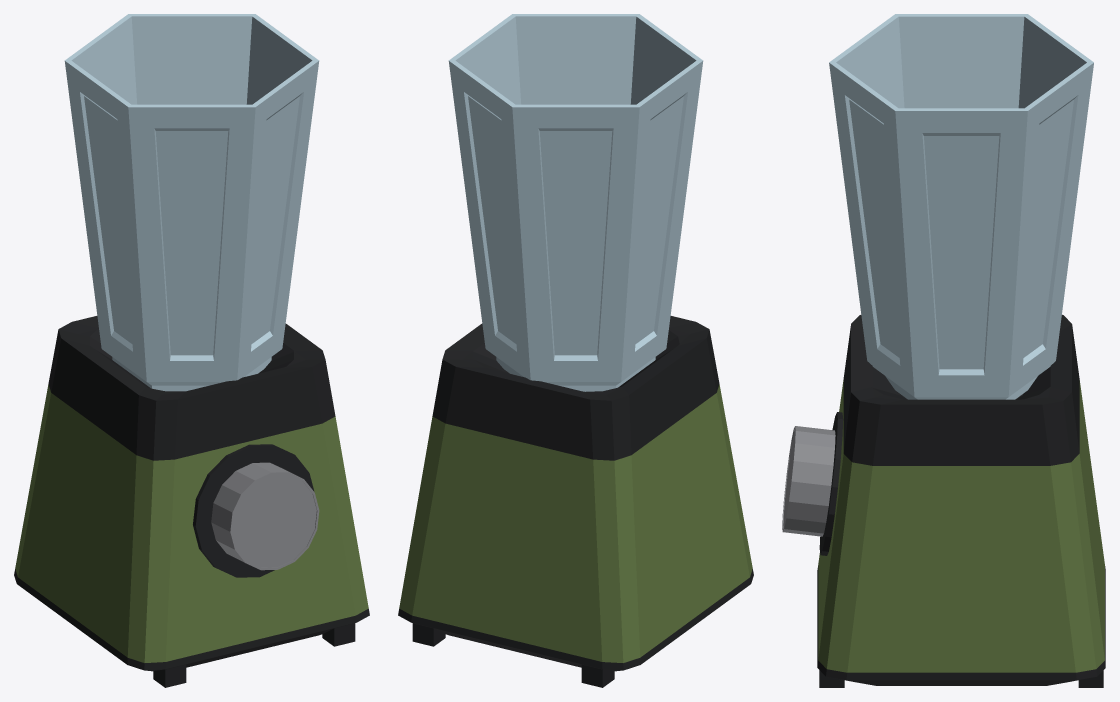
File: blendermodern_01_B.gltf
3 renders of one model, left to right at view 1: azimuth 30°, elevation 25°; view 2: azimuth 150°, elevation 25°; view 3: azimuth 270°, elevation 25°, orthographic. The views are drawn at different scales.
Visible parts, largest first — view 1: blendermodern_01_B, capacitymodern_01_B, Switchforblendermodern_01_B; view 2: blendermodern_01_B, capacitymodern_01_B; view 3: blendermodern_01_B, capacitymodern_01_B, Switchforblendermodern_01_B.
Boxes of the visible parts, x1,y1,x2,y2 form: blendermodern_01_B: (14, 316, 369, 687); capacitymodern_01_B: (64, 14, 319, 391); Switchforblendermodern_01_B: (211, 462, 319, 570); blendermodern_01_B: (398, 316, 753, 687); capacitymodern_01_B: (448, 14, 703, 391); blendermodern_01_B: (817, 314, 1105, 687); capacitymodern_01_B: (829, 14, 1093, 399); Switchforblendermodern_01_B: (782, 426, 835, 536).
Bounding box in the file's own units: 0.1787 × 0.3955 × 0.2005.
Materials: 1 (1 with a texture image).
